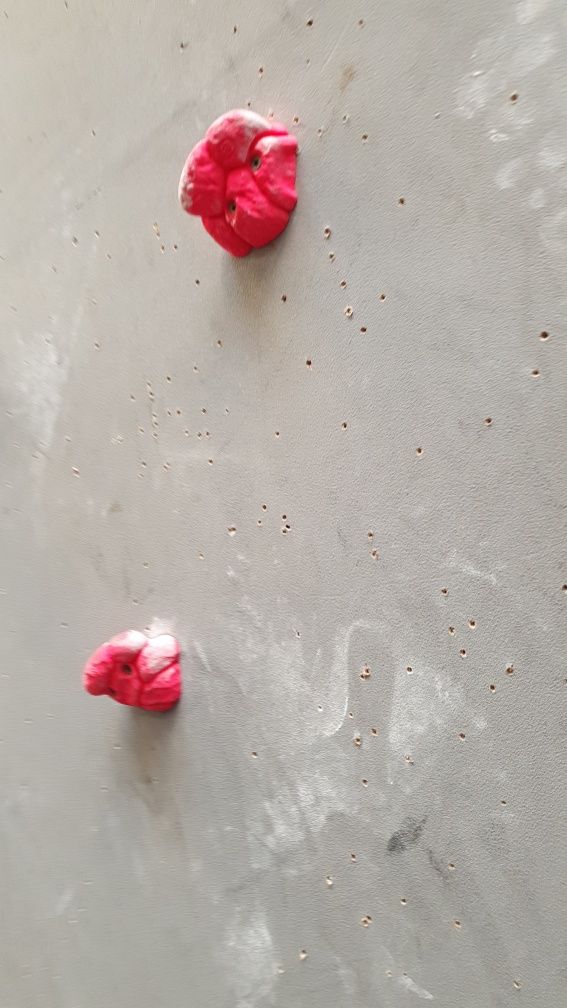Jug: (175, 104, 302, 264), (79, 627, 185, 718)
